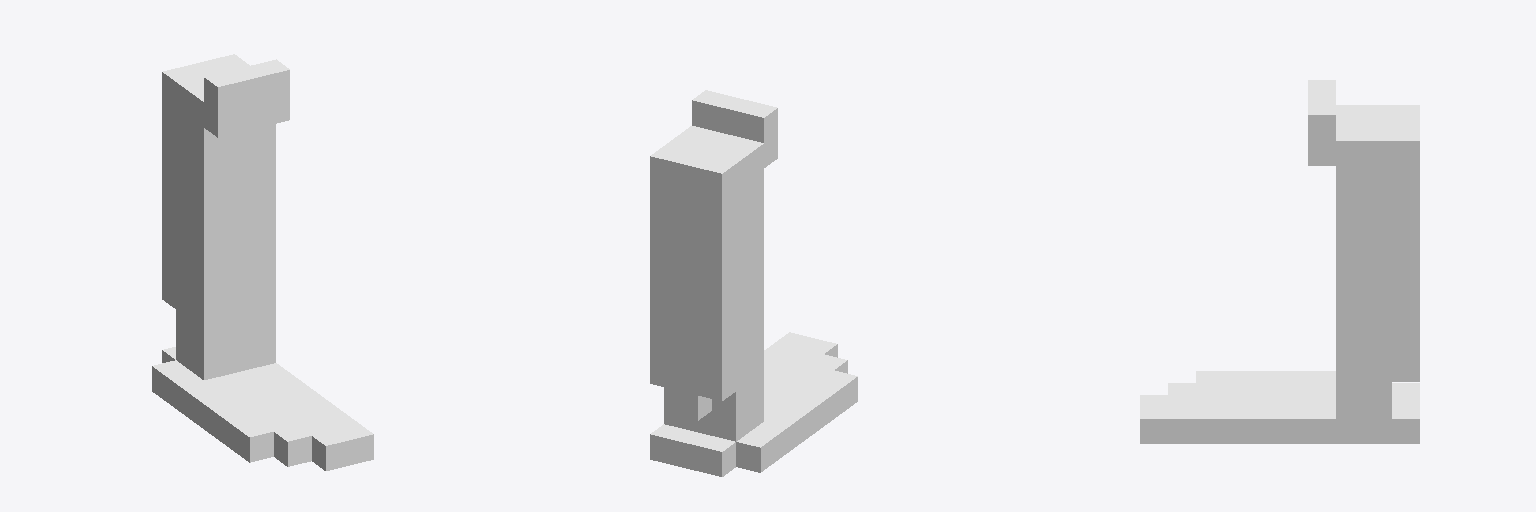
Rendered from a792_BasicGuard_Shin_R.obj.
3 views of the same model, side by side, from view 1: azimuth 30°, elevation 25°; view 2: azimuth 150°, elevation 25°; view 3: azimuth 270°, elevation 25° (orthographic).
Size of the model in its own units: 4 by 13 by 10.